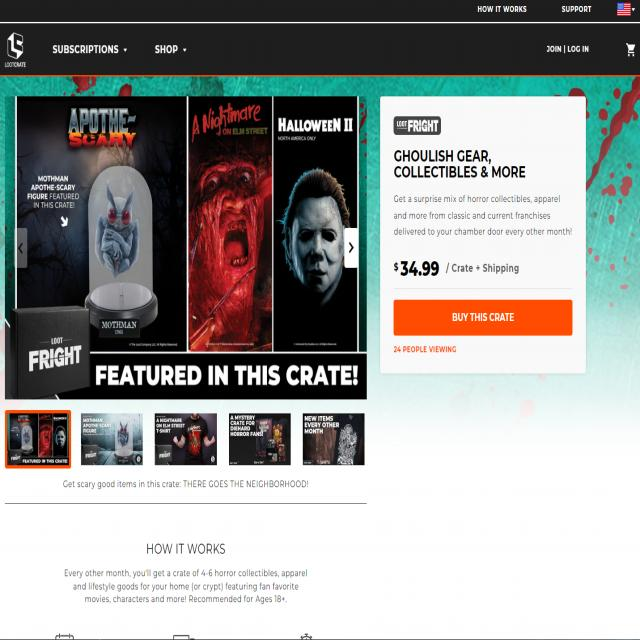sneaking: (388, 339, 468, 363)
